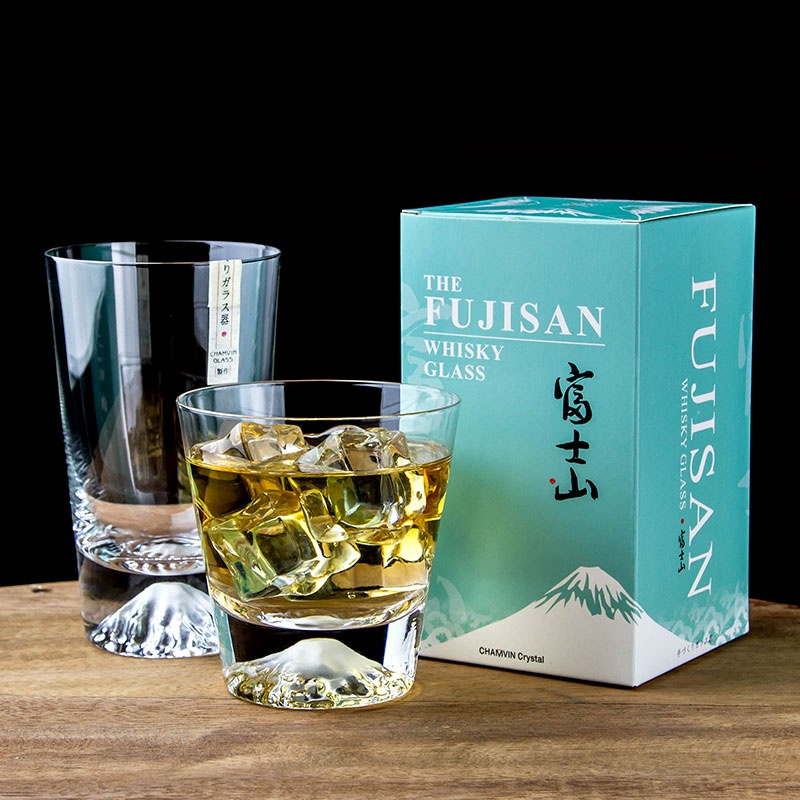whiskey: (176, 377, 460, 697), (37, 241, 181, 680)
